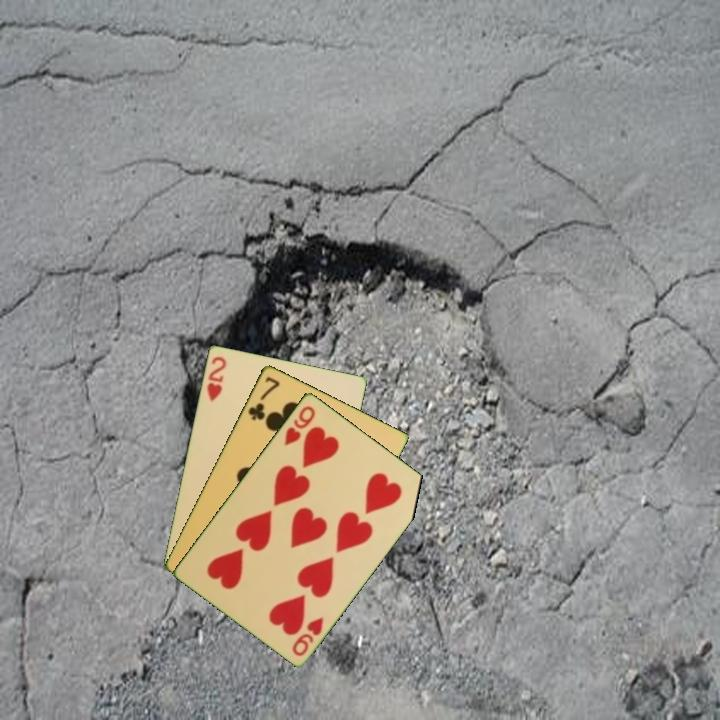2h: (203, 352, 229, 404)
7c: (244, 372, 283, 423)
9h: (280, 402, 318, 448), (288, 613, 326, 659)
